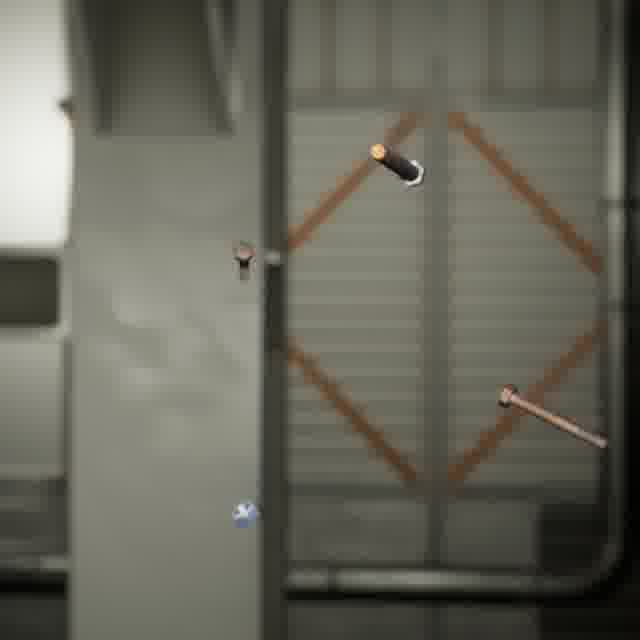bolt: (493, 378, 613, 455), (366, 139, 430, 191), (228, 236, 258, 288)
nut: (225, 494, 265, 532)
